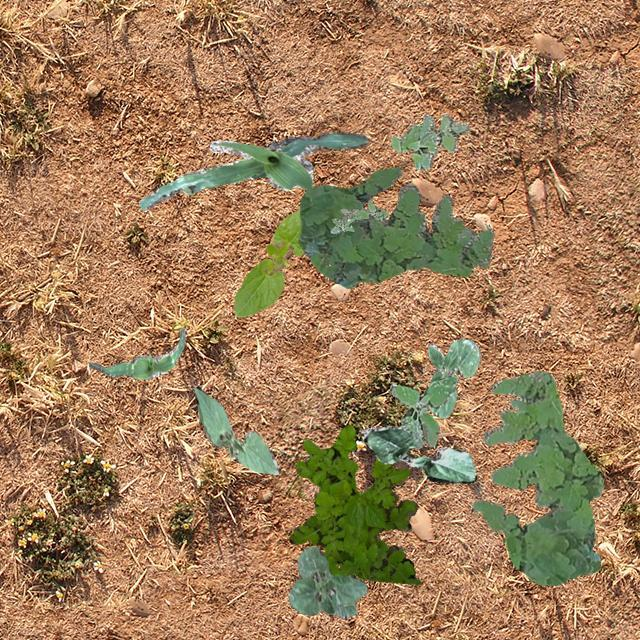crop: (138, 132, 366, 208), (234, 210, 304, 316), (194, 386, 278, 474), (360, 424, 476, 482), (88, 327, 184, 378), (296, 546, 356, 618), (426, 338, 479, 416), (288, 572, 366, 614)
weed: (470, 370, 602, 584), (298, 166, 492, 288), (288, 424, 419, 584), (388, 373, 456, 448), (389, 112, 468, 168), (329, 198, 386, 232)
